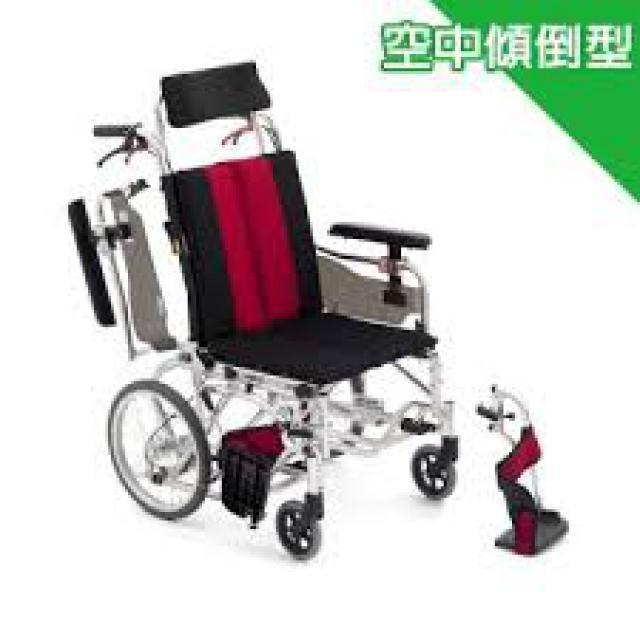wheelchairs: (84, 59, 459, 562)
